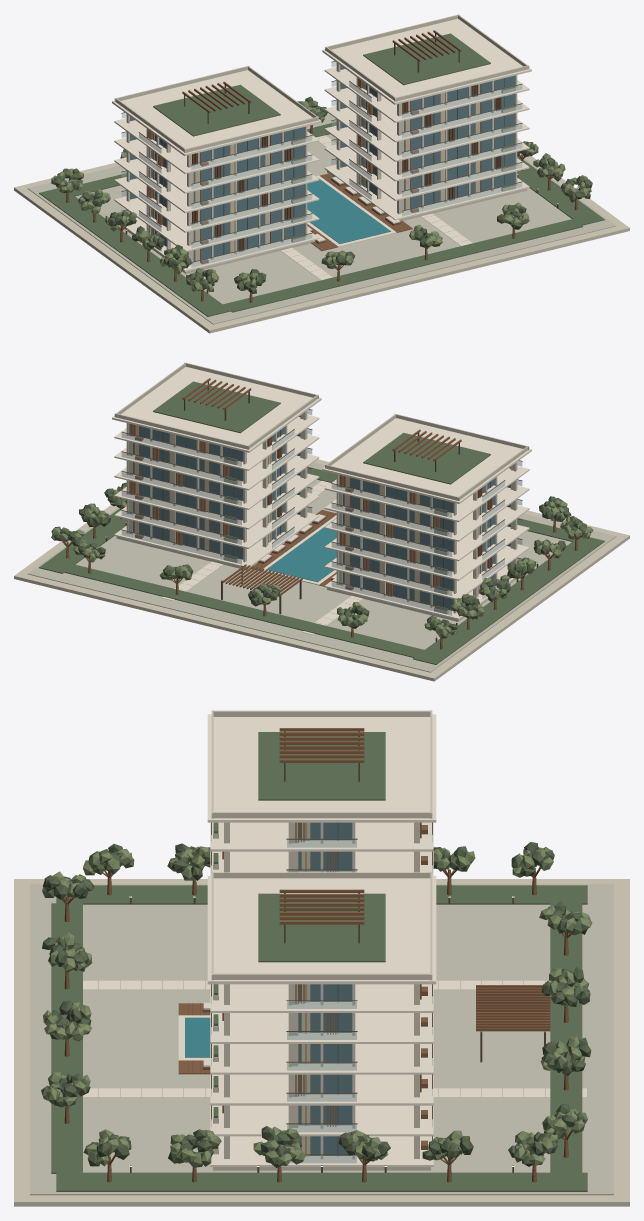
Rendered from luma-avlu-v2.glb.
The picture shows the model from 3 angles, top to bottom: view 1: azimuth 30°, elevation 25°; view 2: azimuth 150°, elevation 25°; view 3: azimuth 270°, elevation 25°; orthographic projection. The views are drawn at different scales.
Parts seen in each view (by area): view 1: Terrace_slab (×12), Courtyard_paving, Glazed_front (×12), Roof_slab (×2), Luma_Avlu_Concept_v2_Planting, Balcony_rail (×12), Site_plinth, Roof_garden (×2), Luma_Avlu_Concept_v2_Olive_light, Luma_Avlu_Concept_v2_Olive_green, Pool, Luma_Avlu_Concept_v2_Ivory_plaster (+5 smaller); view 2: Terrace_slab (×12), Courtyard_paving, Glazed_front (×12), Roof_slab (×2), Luma_Avlu_Concept_v2_Planting, Balcony_rail (×12), Site_plinth, Roof_garden (×2), Luma_Avlu_Concept_v2_Olive_green, Luma_Avlu_Concept_v2_Olive_light, Luma_Avlu_Concept_v2_Thermowood, Pool (+5 smaller); view 3: Courtyard_paving, Terrace_slab (×8), Roof_slab (×2), Luma_Avlu_Concept_v2_Planting, Site_plinth, Roof_garden (×2), Luma_Avlu_Concept_v2_Olive_light, Luma_Avlu_Concept_v2_Olive_green, Luma_Avlu_Concept_v2_Thermowood, Glazed_front (×7), Luma_Avlu_Concept_v2_Ivory_plaster, roof-B_Limestone (+5 smaller).
Part boxes in pixels (x1,y1,x2,y2): Terrace_slab (×12): [114, 67, 529, 271]; Courtyard_paving: [27, 114, 615, 324]; Glazed_front (×12): [193, 75, 514, 261]; Roof_slab (×2): [112, 19, 531, 155]; Luma_Avlu_Concept_v2_Planting: [39, 122, 604, 316]; Balcony_rail (×12): [191, 84, 522, 267]; Site_plinth: [14, 113, 629, 333]; Roof_garden (×2): [153, 33, 490, 136]; Luma_Avlu_Concept_v2_Olive_light: [51, 100, 591, 291]; Luma_Avlu_Concept_v2_Olive_green: [53, 96, 592, 293]; Pool: [307, 178, 390, 243]; Luma_Avlu_Concept_v2_Ivory_plaster: [280, 126, 472, 280]; Terrace_slab (×12): [114, 415, 529, 619]; Courtyard_paving: [28, 462, 616, 672]; Glazed_front (×12): [132, 426, 453, 610]; Roof_slab (×2): [112, 367, 531, 503]; Luma_Avlu_Concept_v2_Planting: [39, 467, 604, 664]; Balcony_rail (×12): [121, 432, 452, 615]; Site_plinth: [14, 459, 629, 681]; Roof_garden (×2): [153, 381, 490, 484]; Luma_Avlu_Concept_v2_Olive_green: [54, 482, 587, 630]; Luma_Avlu_Concept_v2_Olive_light: [51, 486, 593, 638]; Luma_Avlu_Concept_v2_Thermowood: [62, 508, 580, 649]; Pool: [267, 518, 336, 582]; Courtyard_paving: [30, 884, 613, 1195]; Terrace_slab (×8): [210, 822, 433, 1166]; Roof_slab (×2): [207, 714, 436, 984]; Luma_Avlu_Concept_v2_Planting: [51, 885, 587, 1191]; Site_plinth: [14, 879, 629, 1206]; Roof_garden (×2): [258, 732, 385, 962]; Luma_Avlu_Concept_v2_Olive_light: [43, 846, 592, 1167]; Luma_Avlu_Concept_v2_Olive_green: [41, 842, 591, 1167]; Luma_Avlu_Concept_v2_Thermowood: [62, 865, 572, 1182]; Glazed_front (×7): [298, 822, 352, 1125]; Luma_Avlu_Concept_v2_Ivory_plaster: [83, 980, 587, 1097]; roof-B_Limestone: [211, 871, 432, 980].
Size of what is drawn, in the model's own units: 72 by 22.89 by 58.
